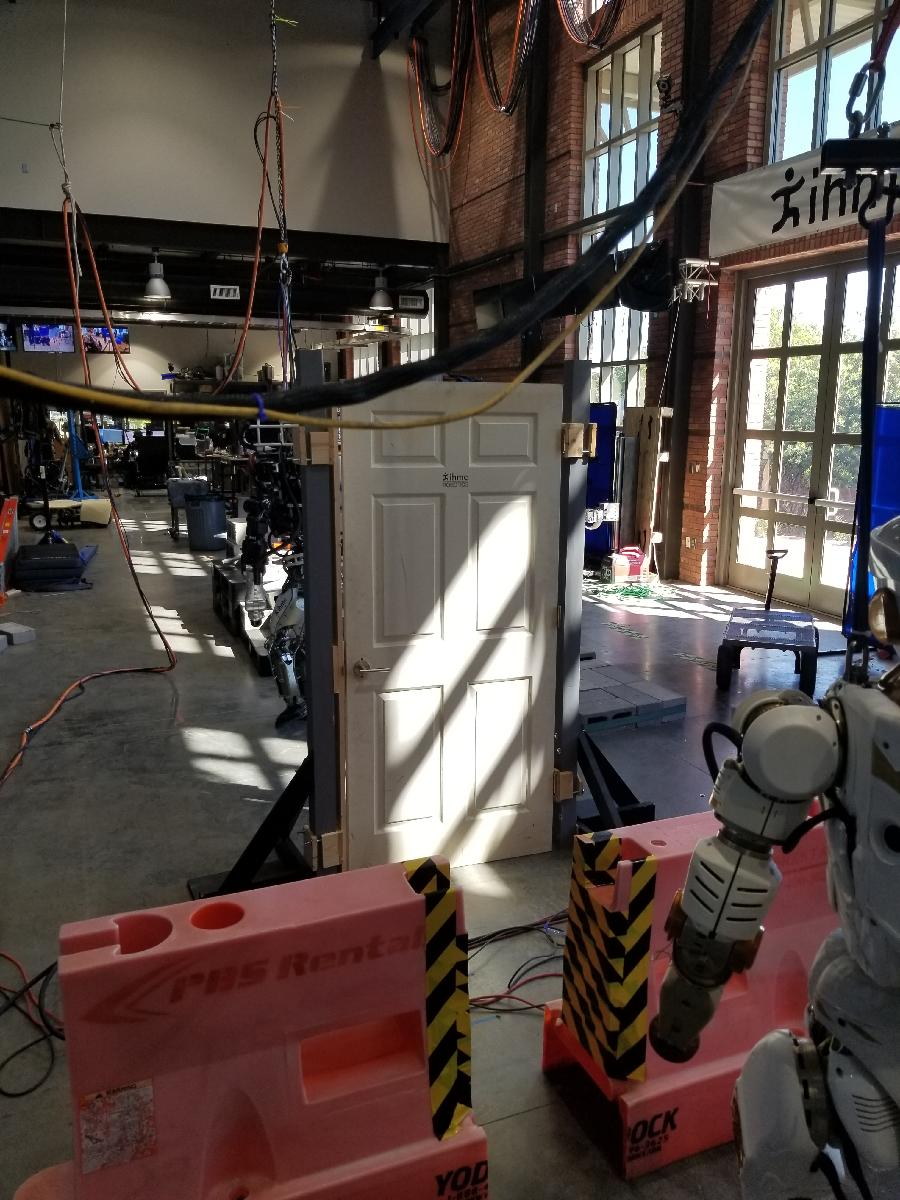door: (336, 376, 566, 900)
doorHandle: (350, 655, 391, 685)
